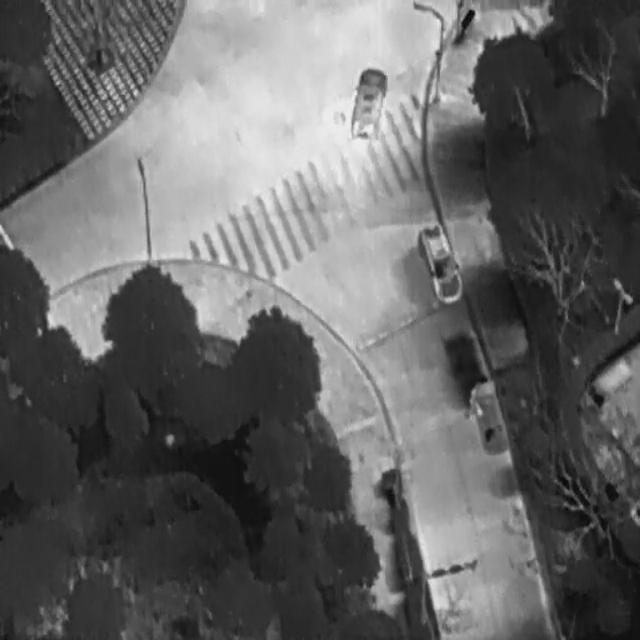Car: (410, 214, 469, 308), (345, 61, 390, 145), (466, 375, 512, 456)
